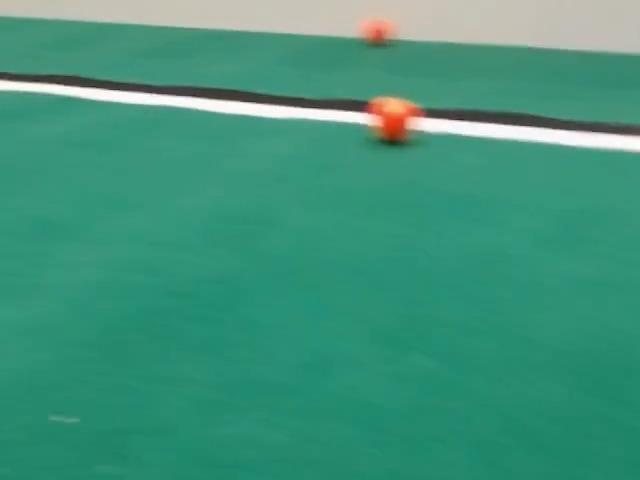Ball: (367, 97, 421, 143), (360, 18, 394, 45)
